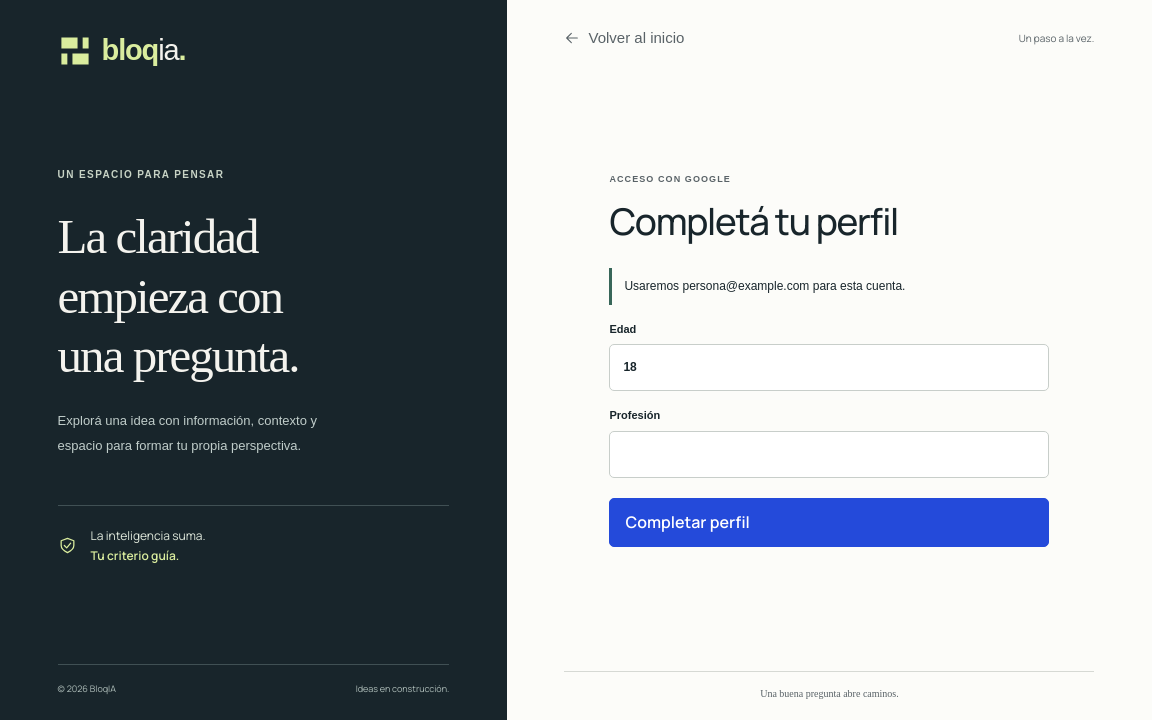
keeps the profile and entered data after a recoverable error and allows correcting and retrying
Replace the text in the number field labelled "Edad" with "24". click: (829, 368)
box: left=609, top=344, right=1049, bottom=391
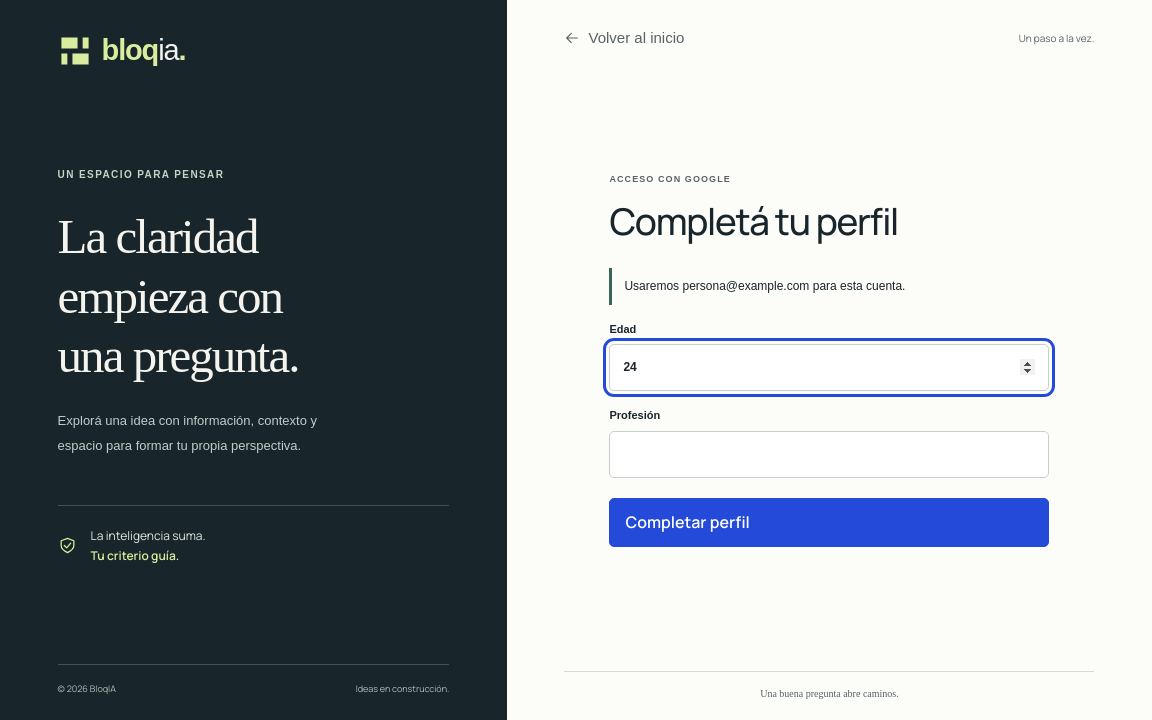
Type "Estudiante" into the field labelled "Profesión". click: (829, 454)
box: left=609, top=431, right=1049, bottom=478
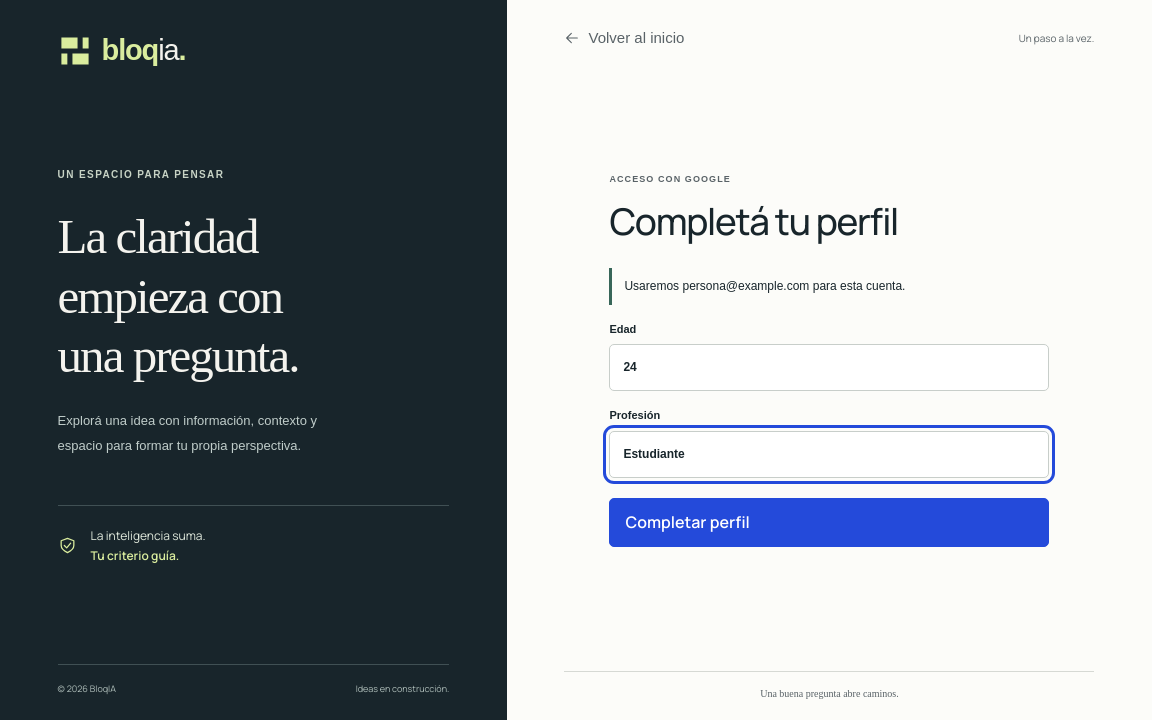
Click the button "Completar perfil". click: (688, 522)
box: left=609, top=498, right=1049, bottom=547
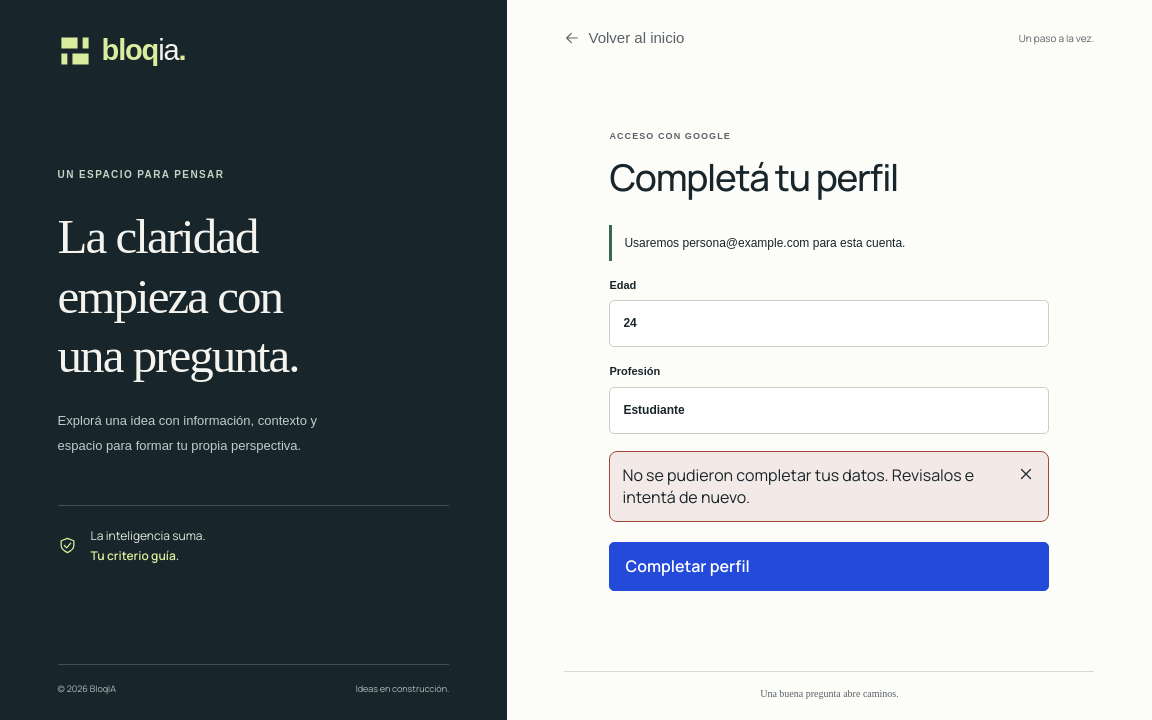
Expected: the heading "Completá tu perfil" is shown, left=609, top=152, right=898, bottom=202
Now the message reads "No se pudieron completar tus datos. Revisalos e intentá de nuevo.", box left=622, top=464, right=974, bottom=508
Replace the text in the field labelled "Profesión" with "Docente". click: (829, 410)
box: left=609, top=387, right=1049, bottom=434
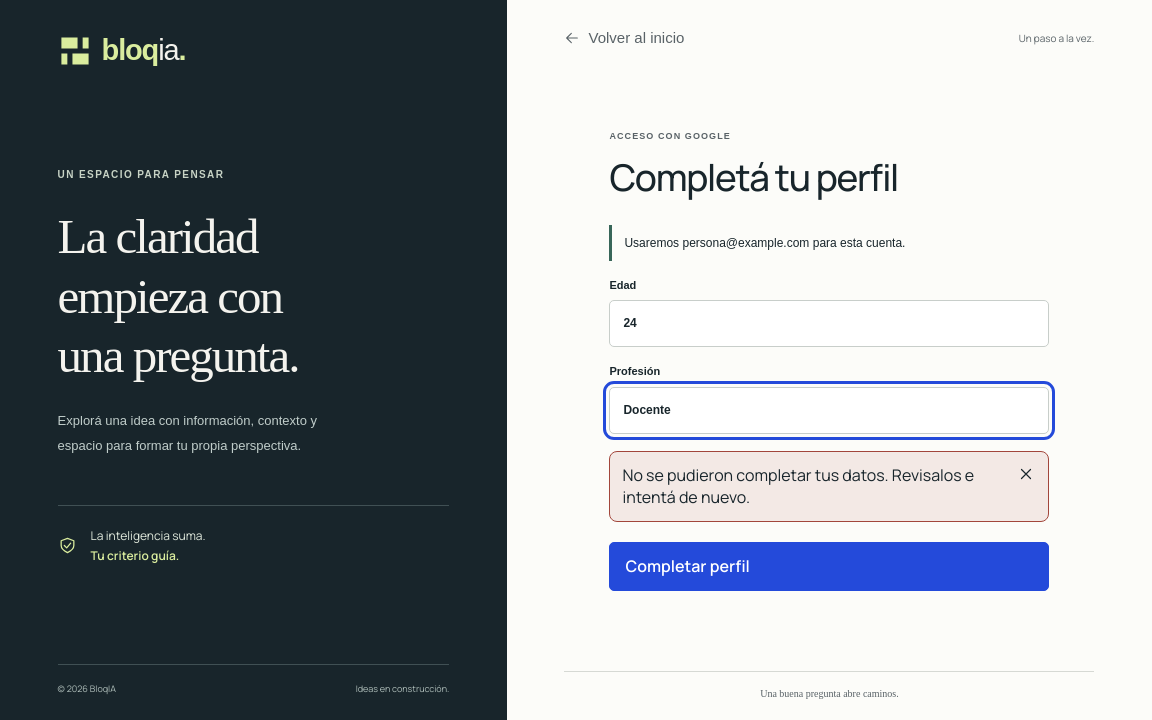
Click the button "Completar perfil". click: (688, 566)
box: left=609, top=542, right=1049, bottom=590
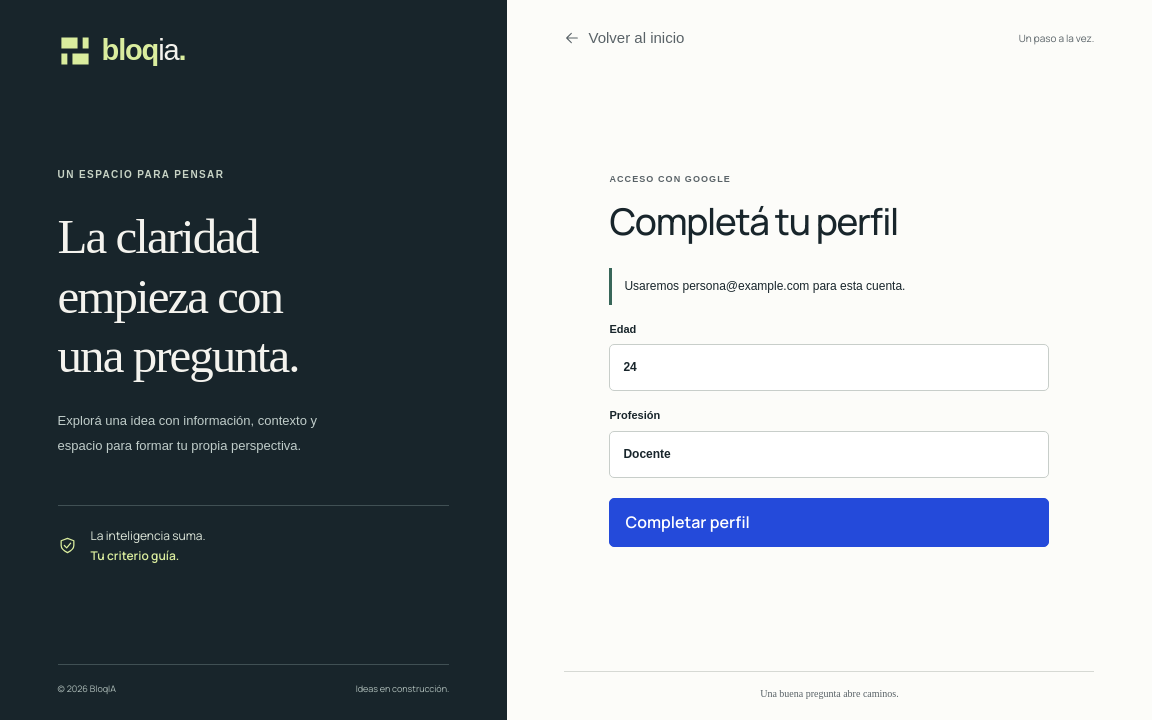
Now the message "No se pudieron completar tus datos. Revisalos e intentá de nuevo." is gone
